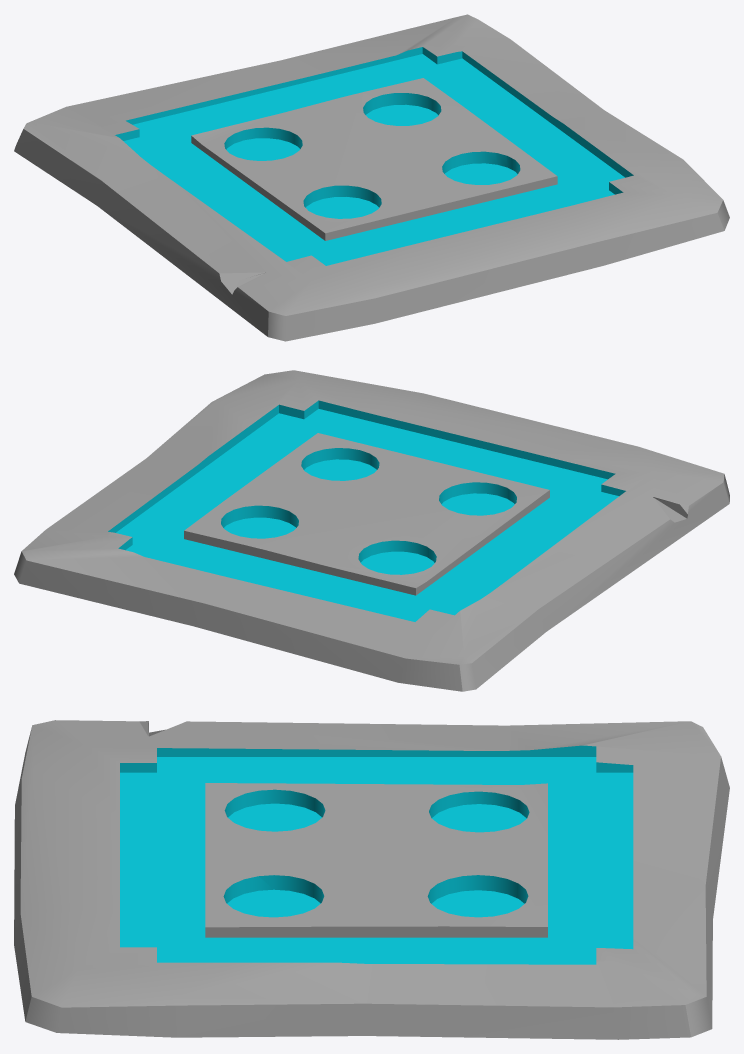
The model's file is dalle24.fbx.
3 views of the same model, one above another, from view 1: azimuth 30°, elevation 25°; view 2: azimuth 150°, elevation 25°; view 3: azimuth 270°, elevation 25° (orthographic). The views are drawn at different scales.
Parts seen in each view (by area): view 1: pCube4; view 2: pCube4; view 3: pCube4.
Boxes of the visible parts, x1,y1,x2,y2 form: pCube4: (14,14,729,341); pCube4: (14,370,729,691); pCube4: (14,720,729,1039).
Bounding box in the file's own units: 6.99 × 0.4395 × 7.18.
